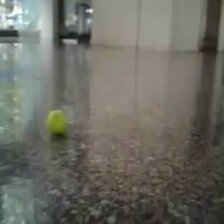tennis: (46, 109, 65, 133)
